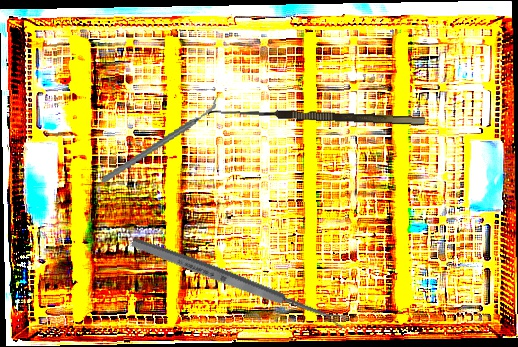Chopper: (90, 96, 230, 185)
Hook Surgical: (207, 105, 425, 138)
Surgical Spoon: (129, 234, 348, 331)
